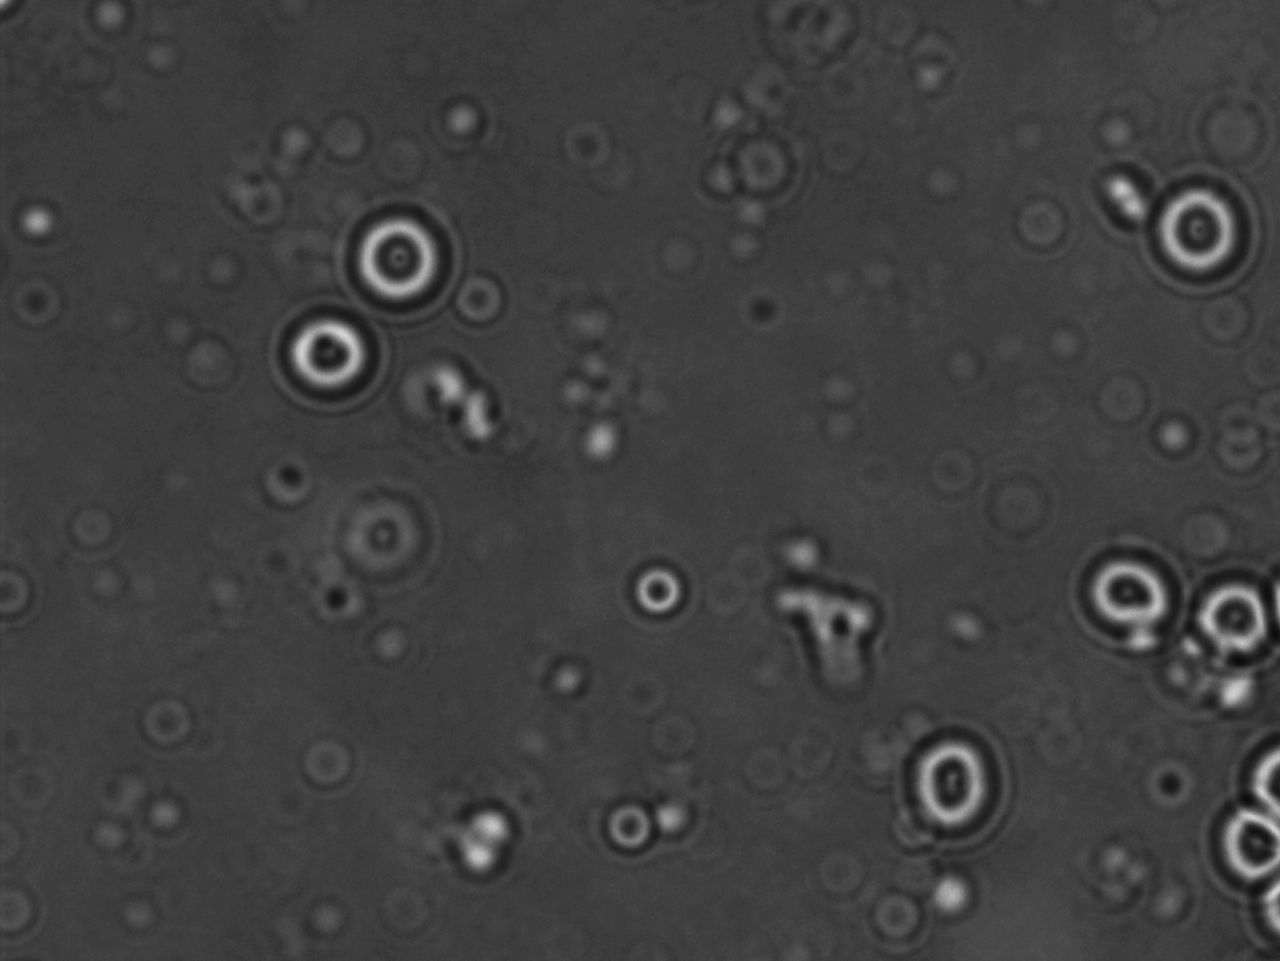depth:8: (887, 723, 1024, 846), (265, 290, 393, 419), (1062, 533, 1193, 652), (340, 187, 464, 311), (1141, 173, 1265, 288), (1175, 555, 1280, 671)
